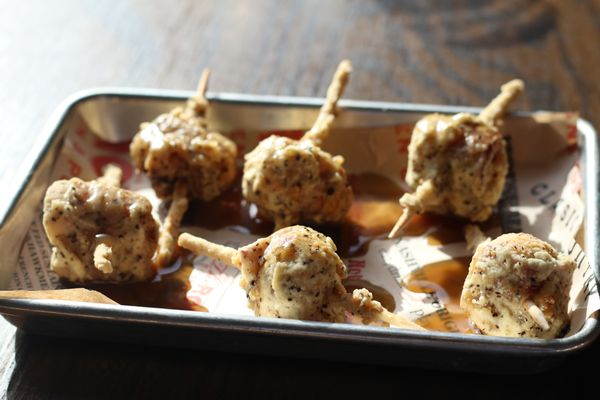salad: (41, 170, 163, 284), (129, 108, 240, 201)
sushi: (240, 134, 356, 236)
